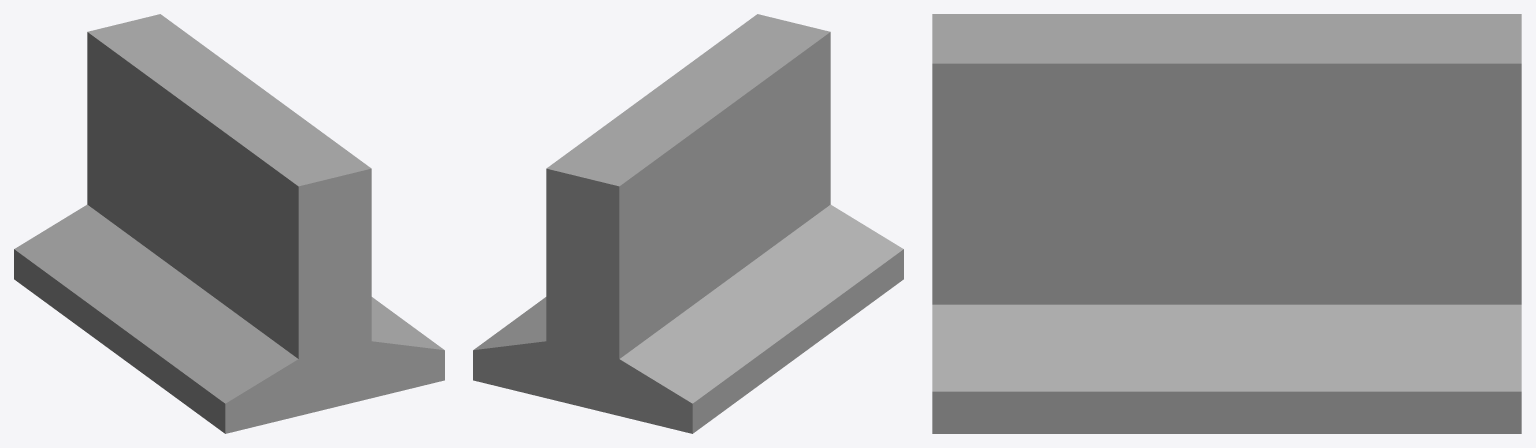
The model's file is barrier_gray_no.fbx.
The picture shows the model from 3 angles, left to right: view 1: azimuth 30°, elevation 25°; view 2: azimuth 150°, elevation 25°; view 3: azimuth 270°, elevation 25°; orthographic projection. The views are drawn at different scales.
Visible parts, largest first — view 1: Cube.065; view 2: Cube.065; view 3: Cube.065.
Part boxes in pixels (x1,y1,x2,y2): Cube.065: (14, 14, 444, 433); Cube.065: (473, 14, 903, 433); Cube.065: (932, 14, 1521, 433).
Bounding box in the file's own units: 300 × 300 × 500.
Materials: 1 (1 with a texture image).
